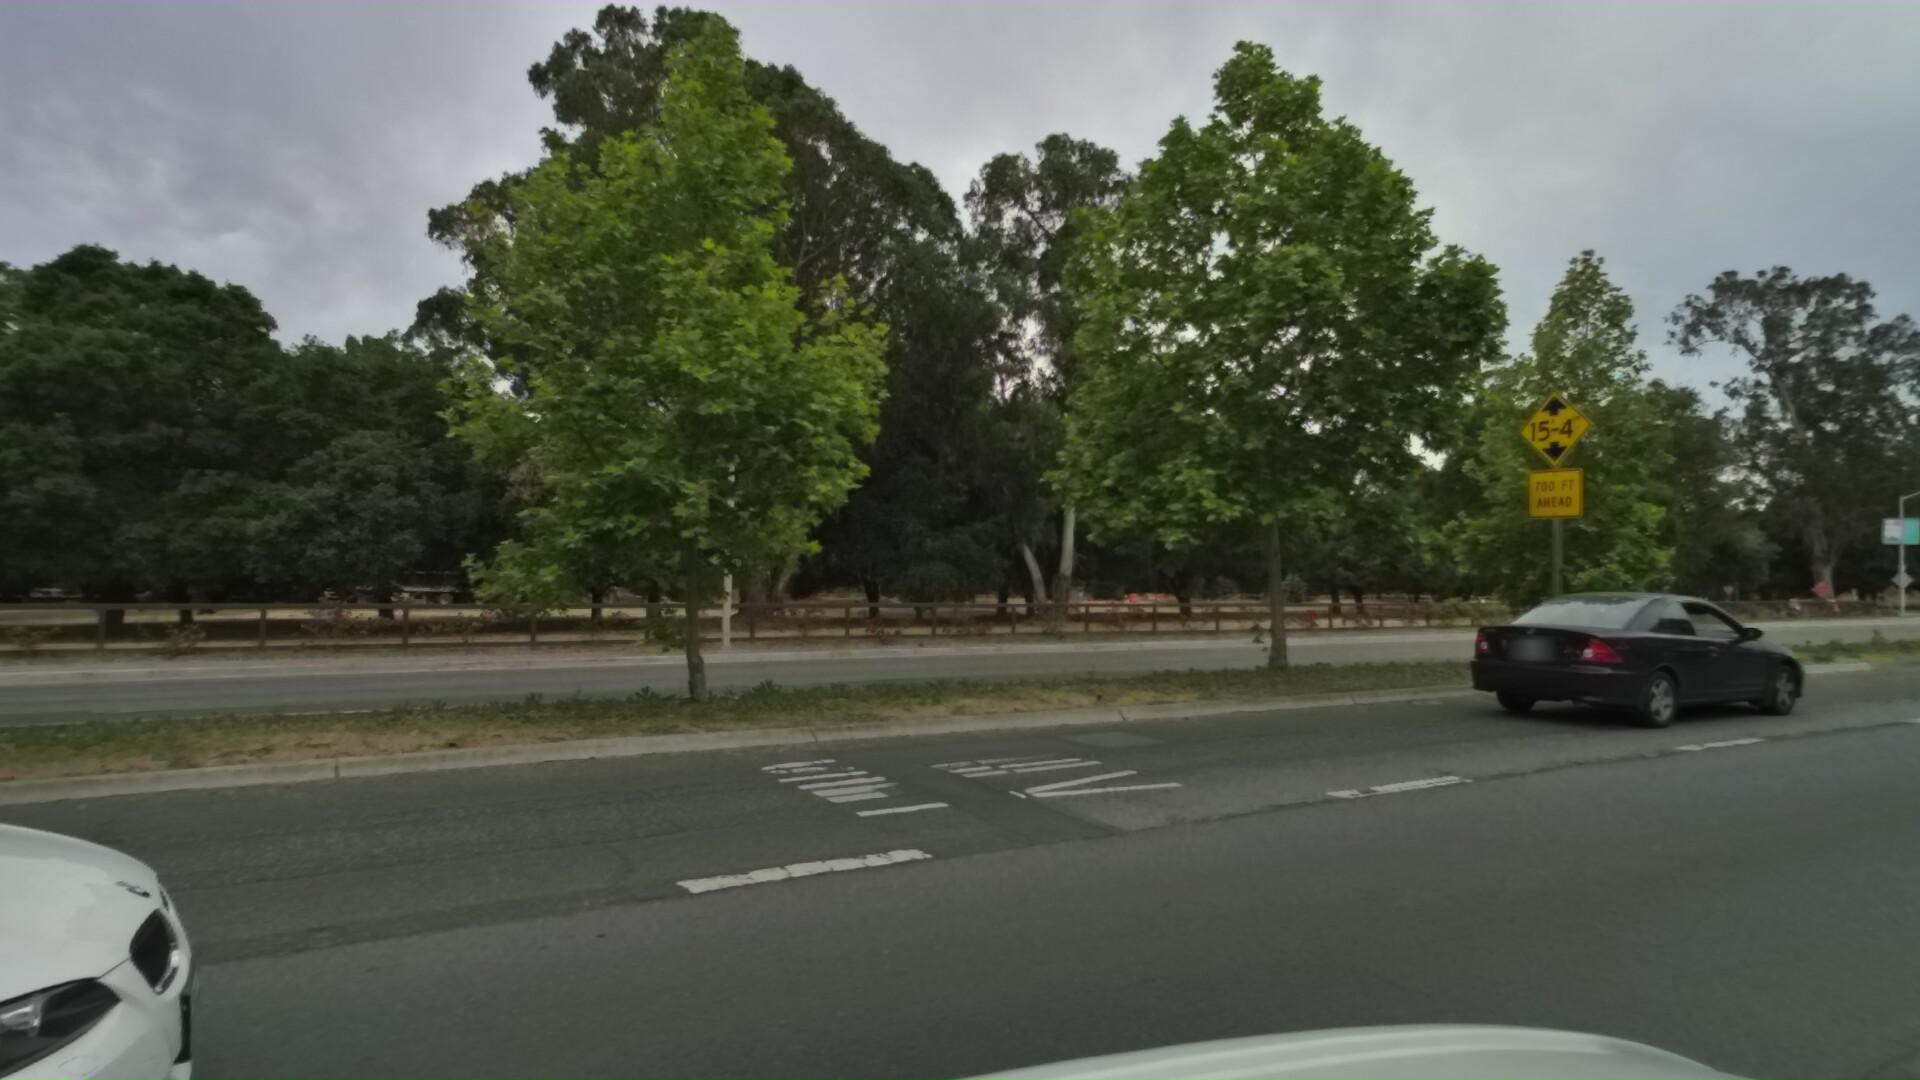car: (1458, 579, 1830, 740)
